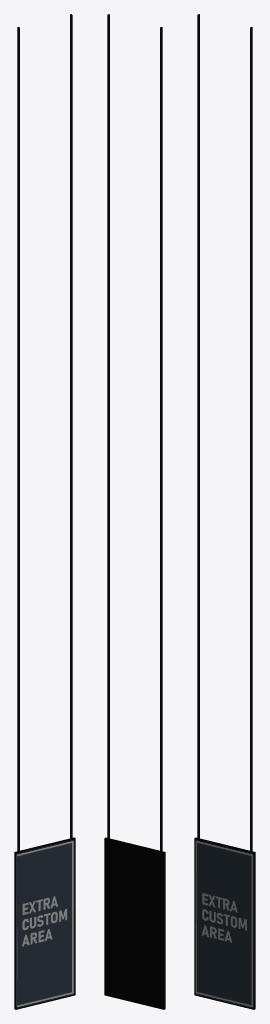
Rendered from stand_medium_top_02.fbx.
3 renders of one model, left to right at view 1: azimuth 30°, elevation 25°; view 2: azimuth 150°, elevation 25°; view 3: azimuth 330°, elevation 25°, orthographic.
Parts seen in each view (by area): view 1: stand_medium_top_02; view 2: stand_medium_top_02; view 3: stand_medium_top_02.
Boxes of the visible parts, x1,y1,x2,y2 form: stand_medium_top_02: [14, 14, 75, 1009]; stand_medium_top_02: [104, 14, 165, 1009]; stand_medium_top_02: [194, 14, 255, 1009].
Bounding box in the file's own units: 80 × 1250 × 3.
